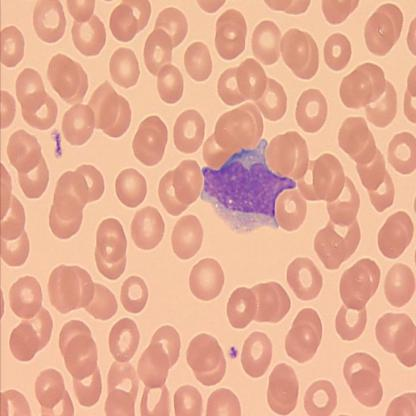Monocyte: (199, 134, 298, 235)
